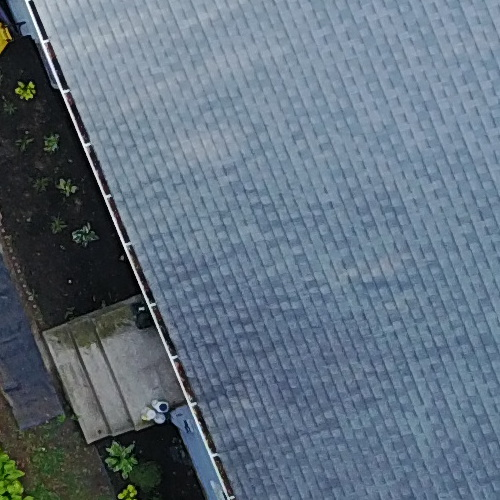container: (148, 395, 173, 414), (150, 410, 170, 429), (138, 408, 159, 424)
